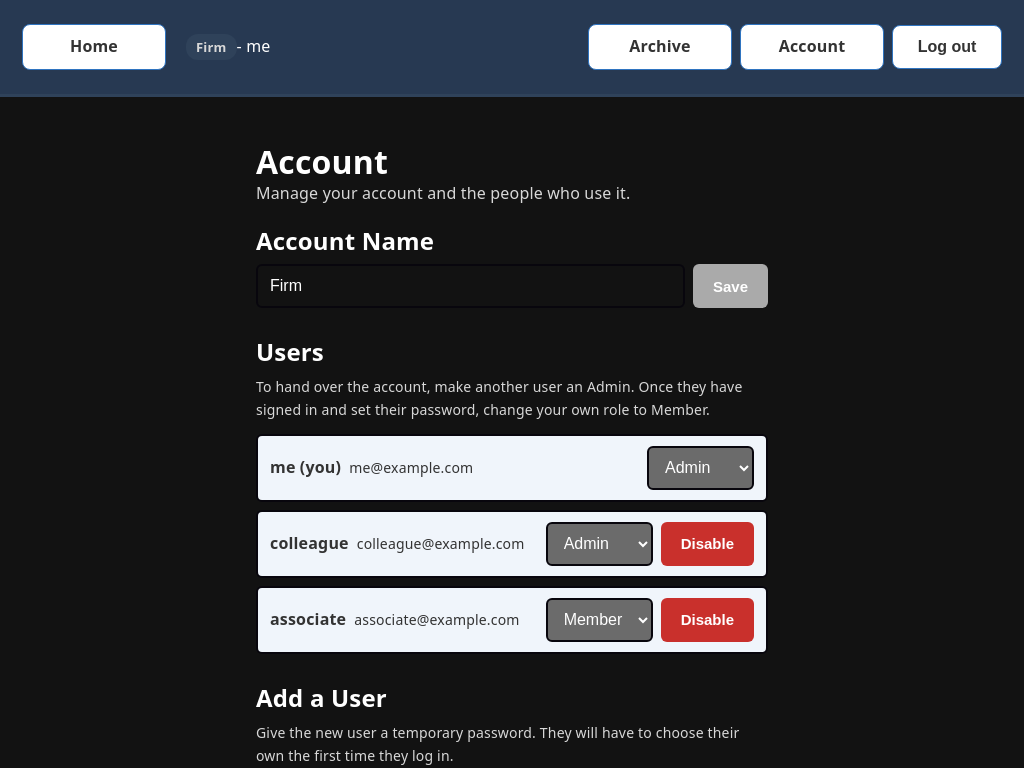
Test: AccountScreen admin handoff › asks before you give up your own admin role, without saving
This screenshot has width=1024, height=768.
Expected: the text "colleague" is shown, [270,532,349,555]
Select "Member" in the dropdown named "Role for me" at (700, 468), box [647,446,754,490]
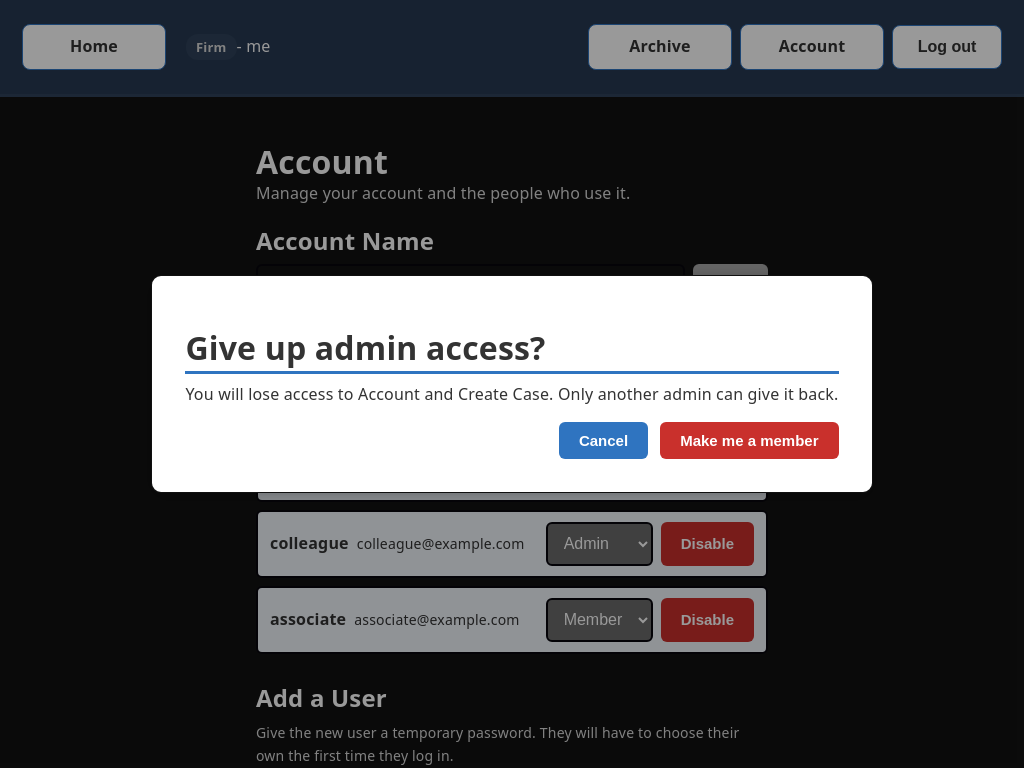
Expected: the dialog "Give up admin access?" is shown, [153,277,870,491]
